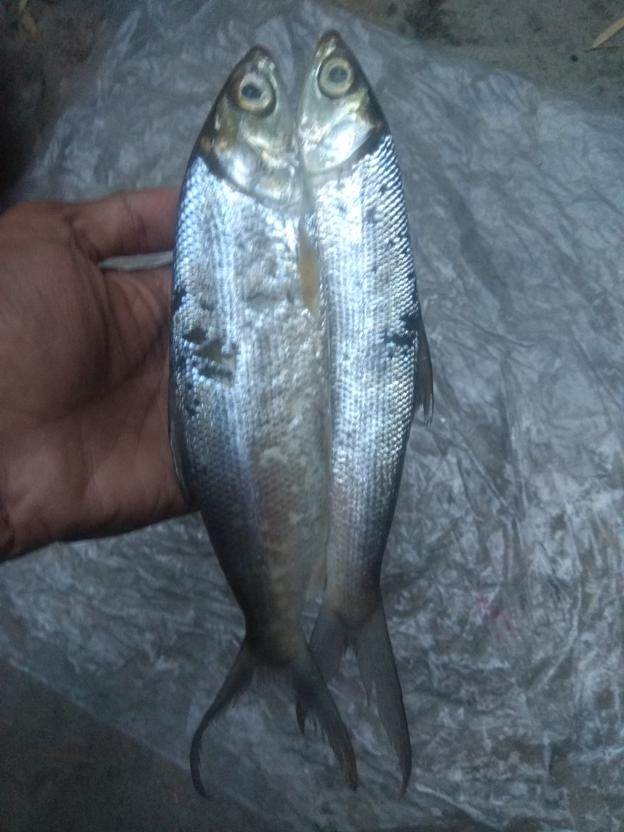Fish head: (194, 45, 313, 207), (298, 29, 384, 175)
Fish tail: (188, 634, 364, 801), (293, 586, 417, 798)
